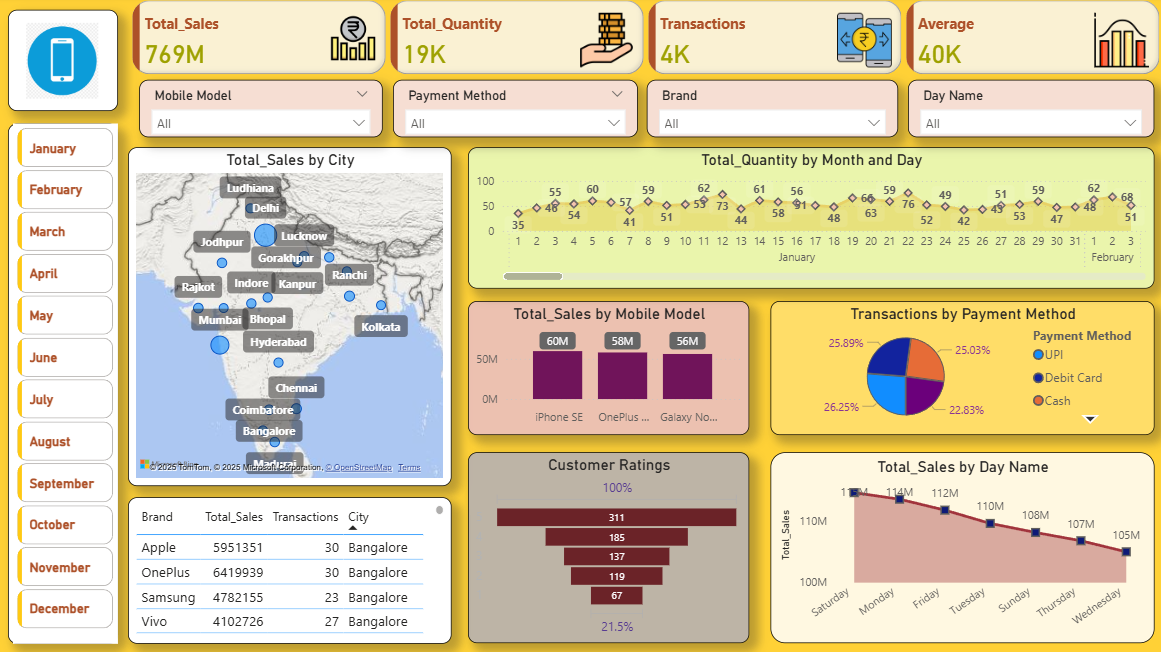

What the dashboard file says about the page in this screenshot:
{"tool":"powerbi","page":{"name":"Page 1","canvas":[1280,720],"ordinal":0},"visuals":[{"type":"shape","box":[11,15.1,120.8,111.1],"z":0},{"type":"shape","box":[11,140,120.8,570.8],"z":2000},{"type":"advancedSlicerVisual","fields":{"Values":["Sales_Data.Date.Variation.Date Hierarchy.Month"]},"box":[16.5,140,115.3,570.8],"z":3000},{"type":"cardVisual","fields":{"Data":["Sales_Data.Total_Sales","Sales_Data.Total_Quantity","Sales_Data.Transactions","Sales_Data.Average"]},"box":[142.7,0,1137.6,91.9],"z":4000},{"type":"map","fields":{"Category":["Sales_Data.City"],"Size":["Sales_Data.Total_Sales"]},"box":[142.7,166,355.4,371.9],"z":5000},{"type":"columnChart","fields":{"Category":["Sales_Data.Mobile Model"],"Y":["Sales_Data.Total_Sales"]},"box":[516,334.8,308.7,146.8],"z":6000},{"type":"lineChart","fields":{"Category":["Sales_Data.Date.Variation.Date Hierarchy.Month","Sales_Data.Date.Variation.Date Hierarchy.Day"],"Y":["Sales_Data.Total_Quantity"]},"box":[516,166,753.3,155.1],"z":7000},{"type":"pieChart","fields":{"Category":["Sales_Data.Payment Method"],"Y":["Sales_Data.Transactions"]},"box":[848,334.8,421.3,146.8],"z":8000},{"type":"funnel","title":"Customer Ratings","fields":{"Category":["Sales_Data.Customer Ratings"],"Y":["CountNonNull(Sales_Data.Customer Ratings)"]},"box":[516,500.9,308.7,209.9],"z":9000},{"type":"areaChart","fields":{"Category":["Sales_Data.Day Name"],"Y":["Sales_Data.Total_Sales"]},"box":[848,500.9,421.3,209.9],"z":10000},{"type":"tableEx","fields":{"Values":["Sales_Data.Brand","Sales_Data.Total_Sales","Sales_Data.Transactions","Sales_Data.City"]},"box":[142.7,550.3,355.4,160.5],"z":11000},{"type":"slicer","fields":{"Values":["Sales_Data.Mobile Model"]},"box":[155.1,91.9,267.6,63.1],"z":12000},{"type":"slicer","fields":{"Values":["Sales_Data.Payment Method"]},"box":[433.6,91.9,269,63.1],"z":13000},{"type":"slicer","fields":{"Values":["Sales_Data.Brand"]},"box":[712.2,91.9,275.8,63.1],"z":14000},{"type":"slicer","fields":{"Values":["Sales_Data.Day Name"]},"box":[999,91.9,270.3,63.1],"z":15000},{"type":"image","box":[16.5,24.7,108.4,93.3],"z":15001}]}

Visuals, with their boxes in screenshot pixels (x1, y1, x2, y2), scaled from the page's 1280x720 canvas onto the 1161x652 screenshot:
shape: (x1=10, y1=14, x2=120, y2=114)
shape: (x1=10, y1=127, x2=120, y2=644)
advancedSlicerVisual - Sales_Data.Date.Variation.Date Hierarchy.Month: (x1=15, y1=127, x2=120, y2=644)
cardVisual - Sales_Data.Total_Sales x Sales_Data.Total_Quantity: (x1=129, y1=0, x2=1160, y2=83)
map - Sales_Data.City x Sales_Data.Total_Sales: (x1=129, y1=150, x2=452, y2=487)
columnChart - Sales_Data.Mobile Model x Sales_Data.Total_Sales: (x1=468, y1=303, x2=748, y2=436)
lineChart - Sales_Data.Date.Variation.Date Hierarchy.Month x Sales_Data.Date.Variation.Date Hierarchy.Day: (x1=468, y1=150, x2=1151, y2=291)
pieChart - Sales_Data.Payment Method x Sales_Data.Transactions: (x1=769, y1=303, x2=1151, y2=436)
"Customer Ratings" funnel: (x1=468, y1=454, x2=748, y2=644)
areaChart - Sales_Data.Day Name x Sales_Data.Total_Sales: (x1=769, y1=454, x2=1151, y2=644)
tableEx - Sales_Data.Brand x Sales_Data.Total_Sales: (x1=129, y1=498, x2=452, y2=644)
slicer - Sales_Data.Mobile Model: (x1=141, y1=83, x2=383, y2=140)
slicer - Sales_Data.Payment Method: (x1=393, y1=83, x2=637, y2=140)
slicer - Sales_Data.Brand: (x1=646, y1=83, x2=896, y2=140)
slicer - Sales_Data.Day Name: (x1=906, y1=83, x2=1151, y2=140)
image: (x1=15, y1=22, x2=113, y2=107)
